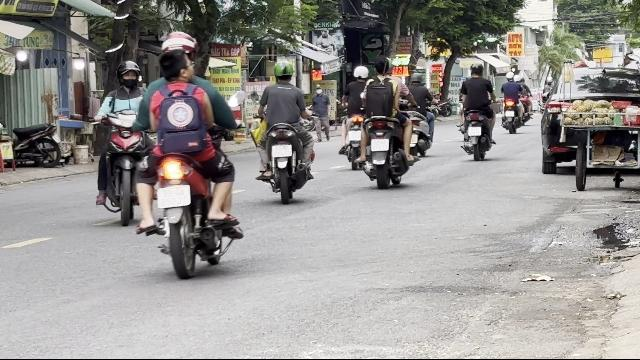helmet: (158, 30, 200, 57), (116, 60, 140, 88), (272, 60, 294, 82)
licenseplate: (157, 186, 190, 209), (272, 145, 292, 157), (371, 139, 389, 151)
motorcyclist: (129, 32, 243, 276), (90, 58, 152, 222), (251, 60, 317, 200), (359, 53, 413, 187)
nohelmet: (157, 50, 199, 90), (372, 54, 392, 76)
